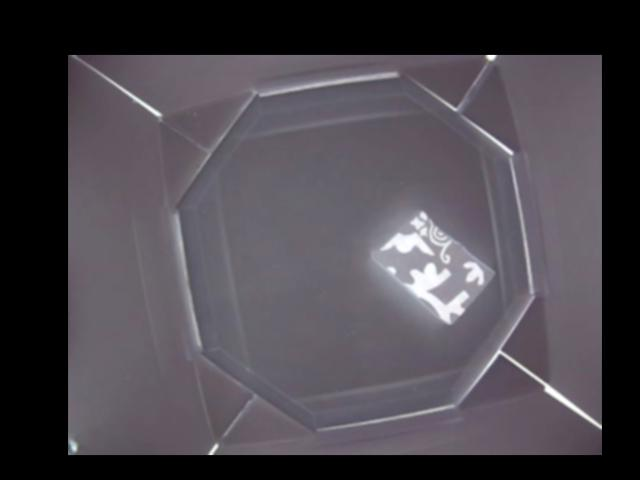China: (370, 209, 498, 320)
